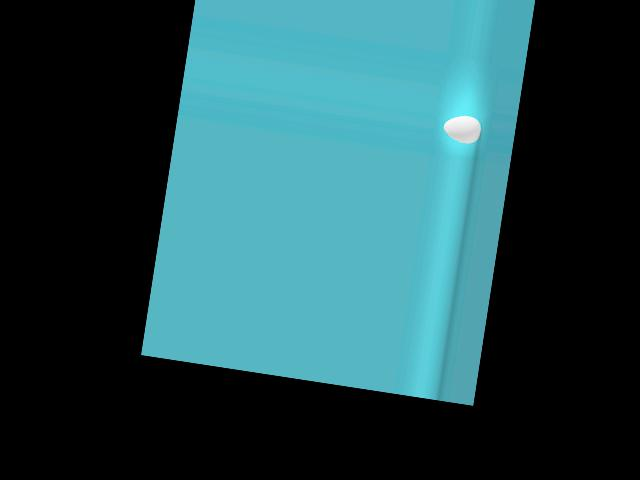egg: (442, 112, 483, 146)
